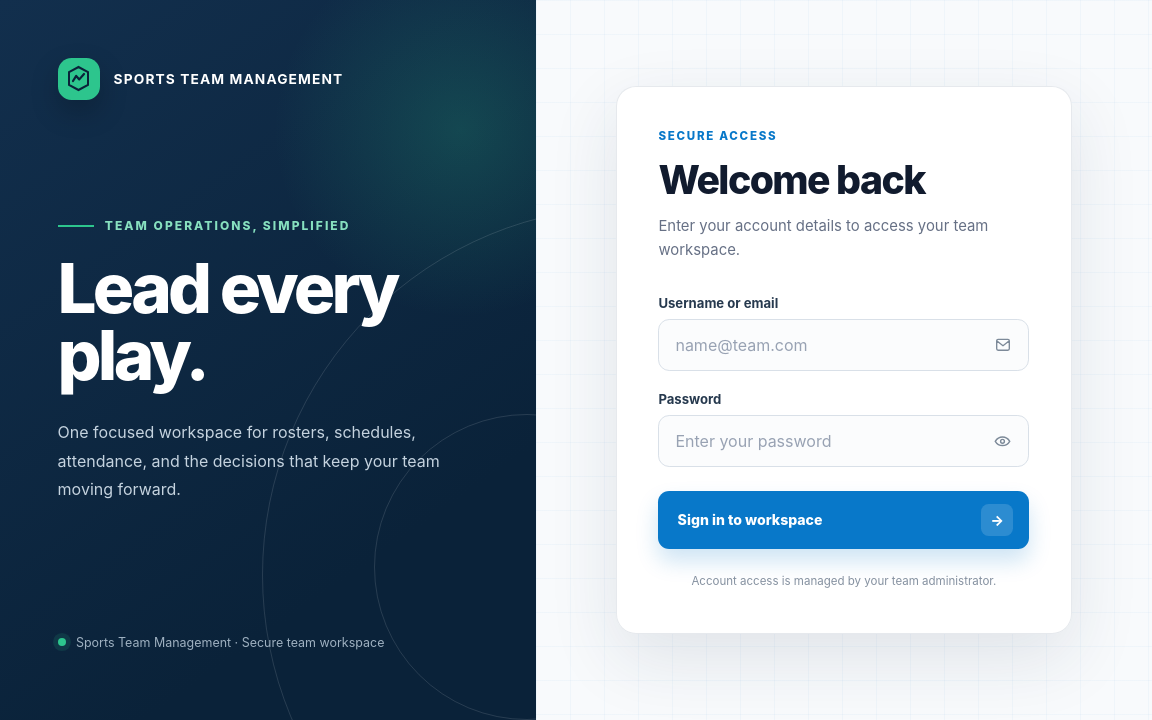
Test: Sprint 1 authentication flow › shows the backend error and keeps the user on the login page
The width and height of the screenshot is (1152, 720).
Type "coach@example.com" into the field labelled "Username or email".
click(844, 345); type("coach@example.com")  # box [658,319,1029,371]
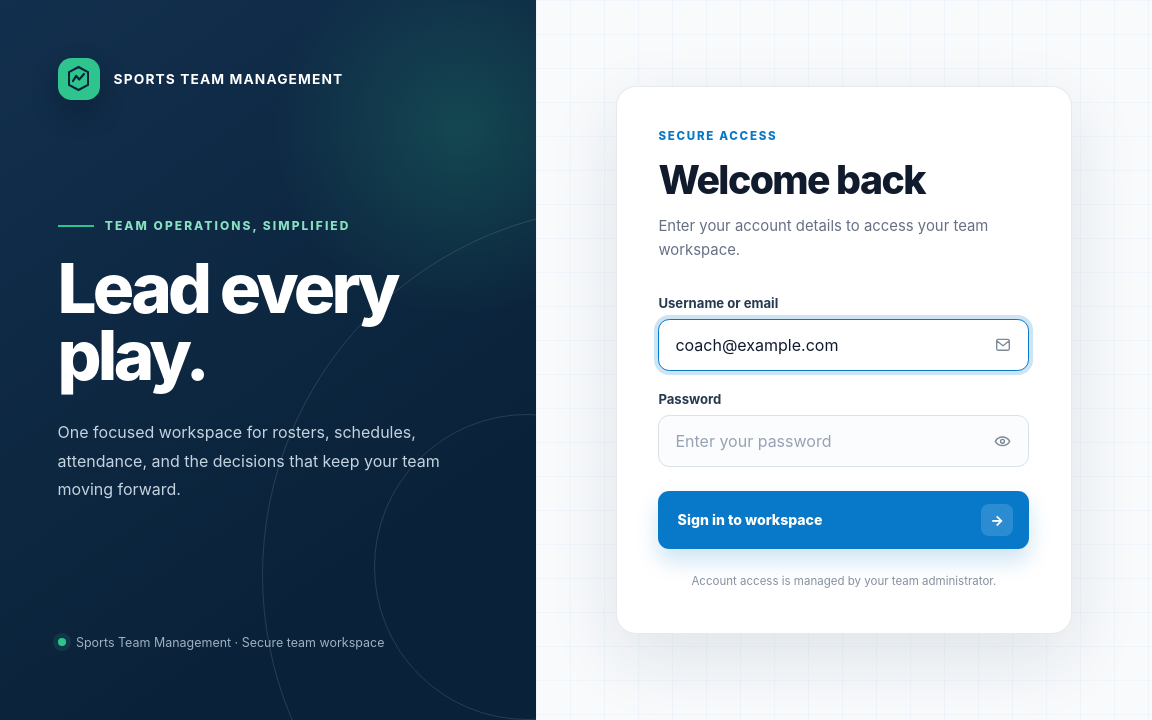
Type "wrongpass" into the password field labelled "Password".
click(844, 441); type("wrongpass")  # box [658,415,1029,467]
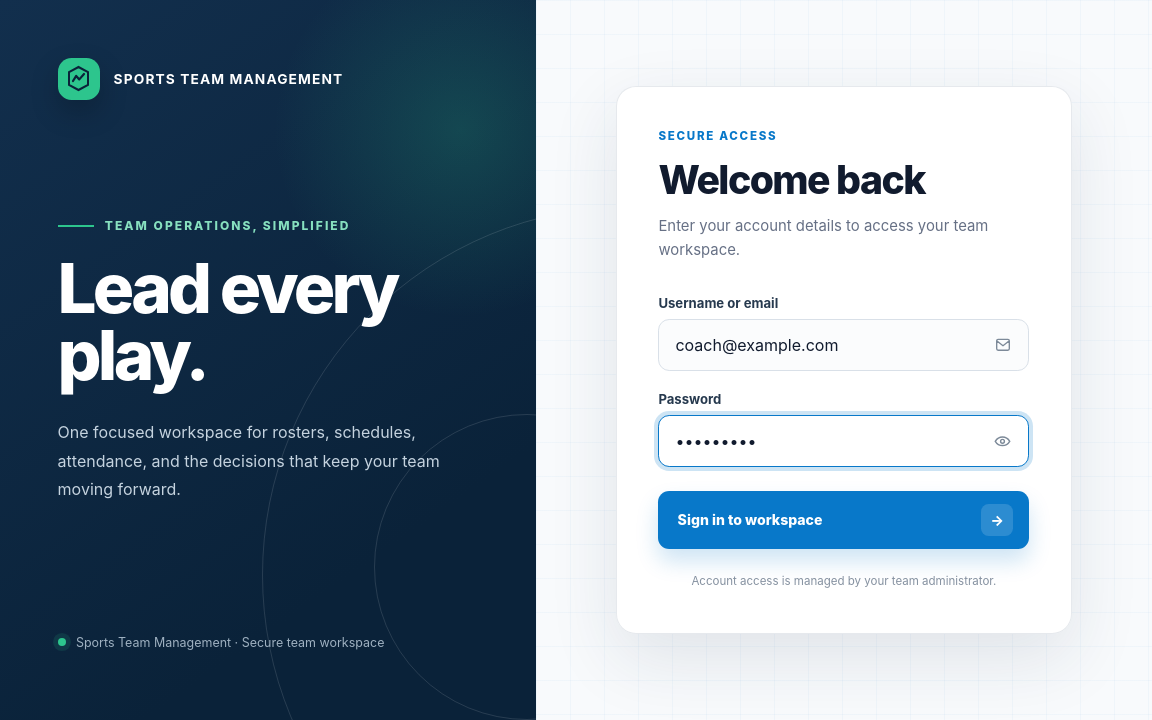
Click the button "Sign in to workspace →".
click(750, 520)  # box [658,491,1029,548]
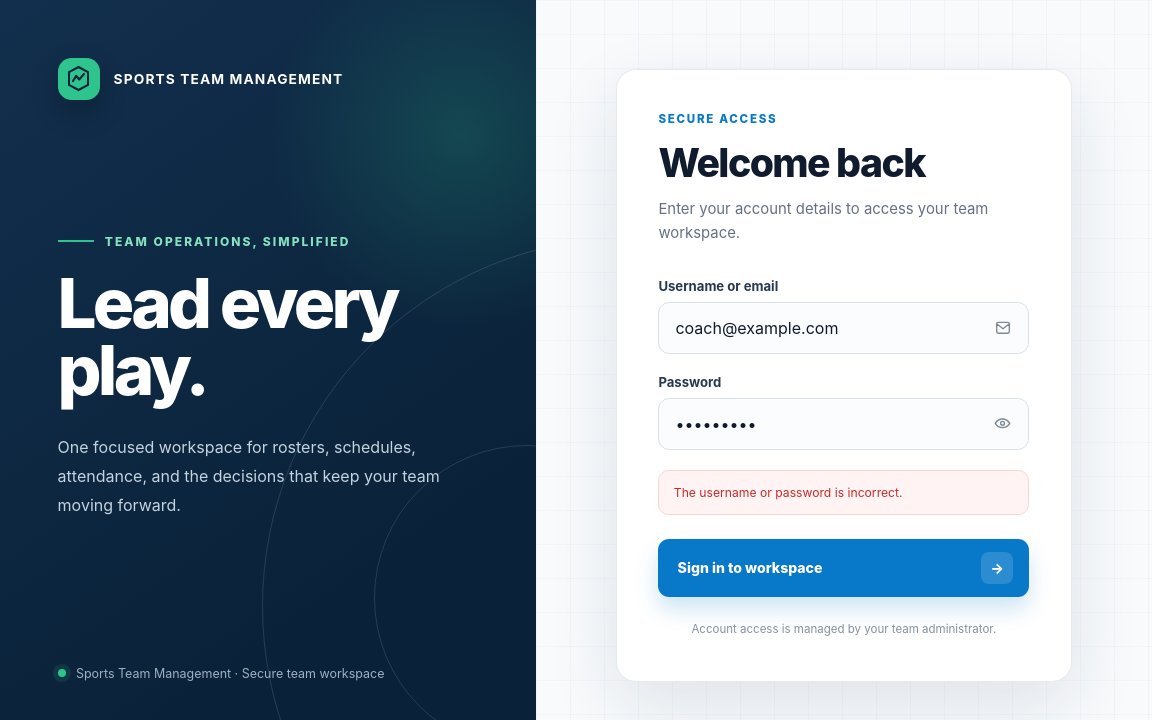
Check: the message reads "The username or password is incorrect.", box [674,484,902,500]
